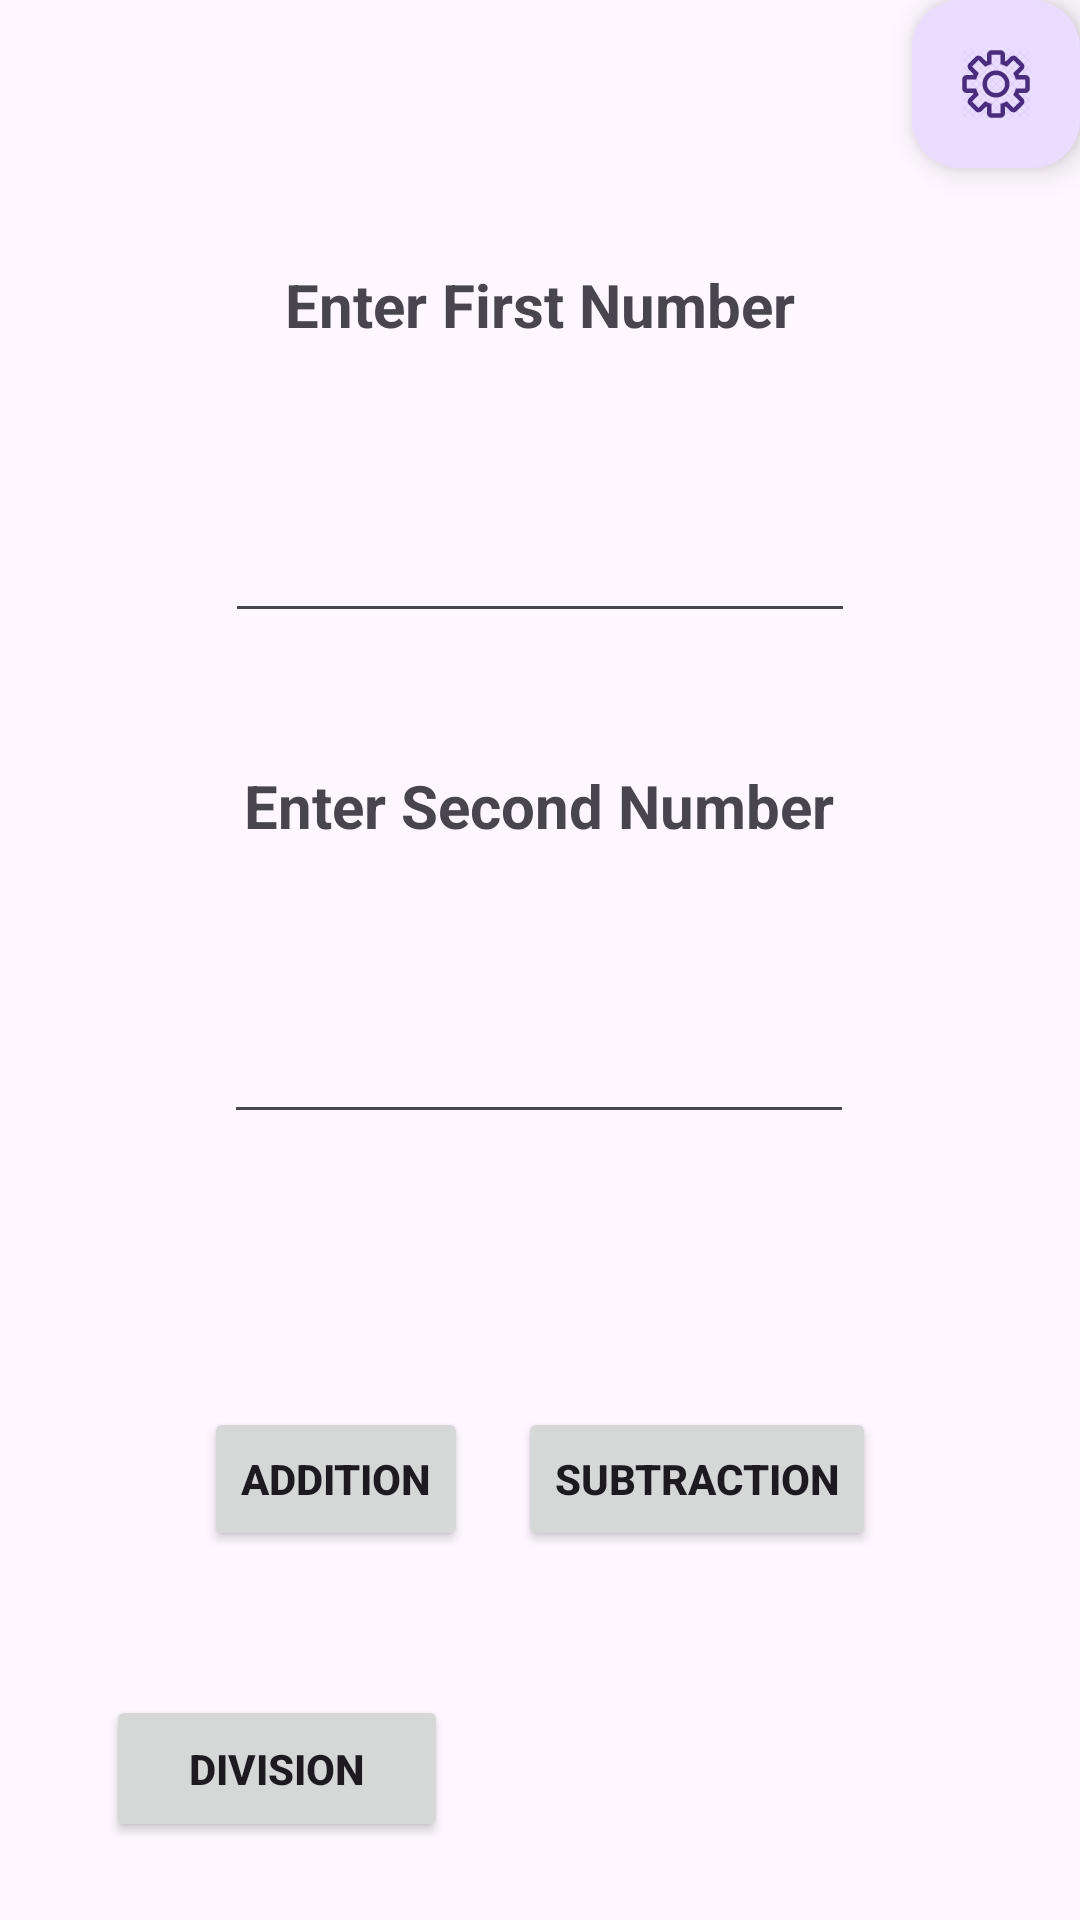

Icon bounding boxes for this 1080px x 1920px phone screenshot, format (x1,y1,x2,y2):
settings: (962,50,1030,118)
